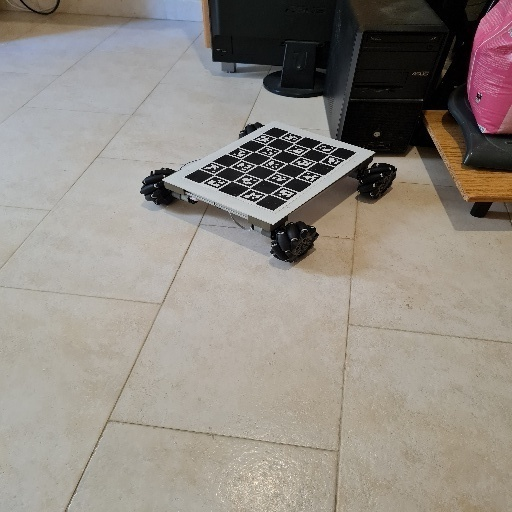Omniwheel: (142, 122, 399, 264)
